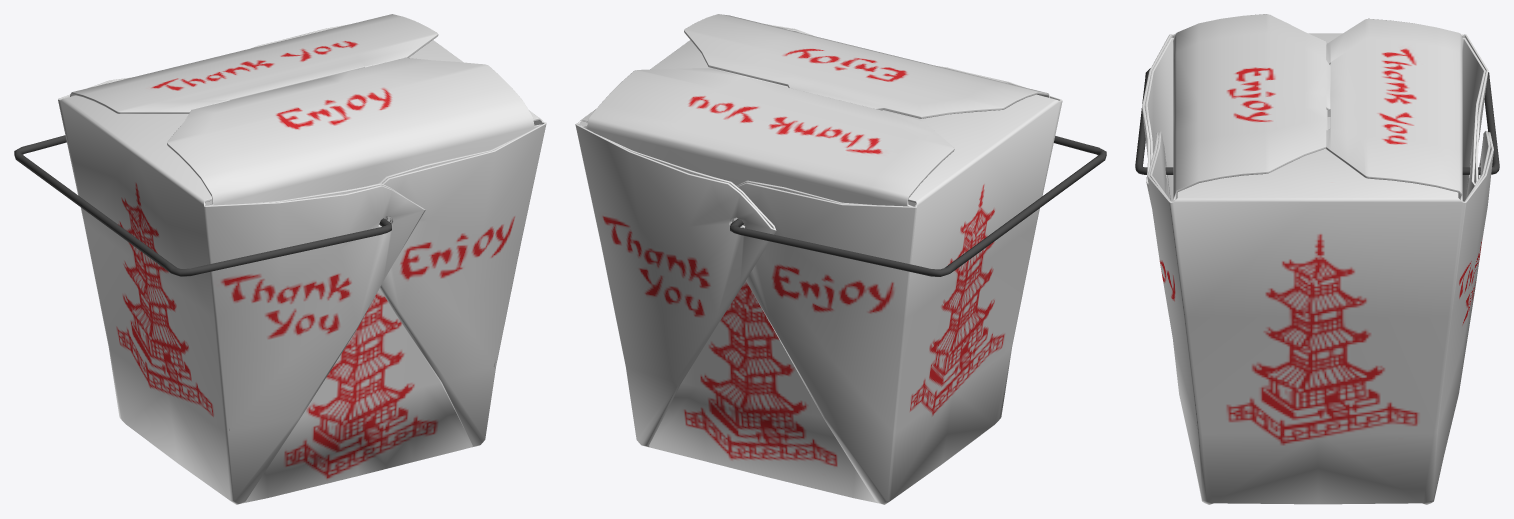
File: takeout-compressed-2.glb
3 renders of one model, left to right at view 1: azimuth 30°, elevation 25°; view 2: azimuth 150°, elevation 25°; view 3: azimuth 270°, elevation 25°, orthographic.
Visible parts, largest first — view 1: pack, handle; view 2: pack, handle; view 3: pack, handle.
Boxes of the visible parts, box(x1,y1,x2,y2) form: pack: box(58, 14, 546, 504); handle: box(14, 135, 391, 276); pack: box(575, 14, 1062, 504); handle: box(730, 136, 1106, 276); pack: box(1142, 14, 1493, 504); handle: box(1135, 68, 1499, 174).
Size of the model in its own units: 10.89 by 9.6 by 8.96.
1 material, 1 textured.
